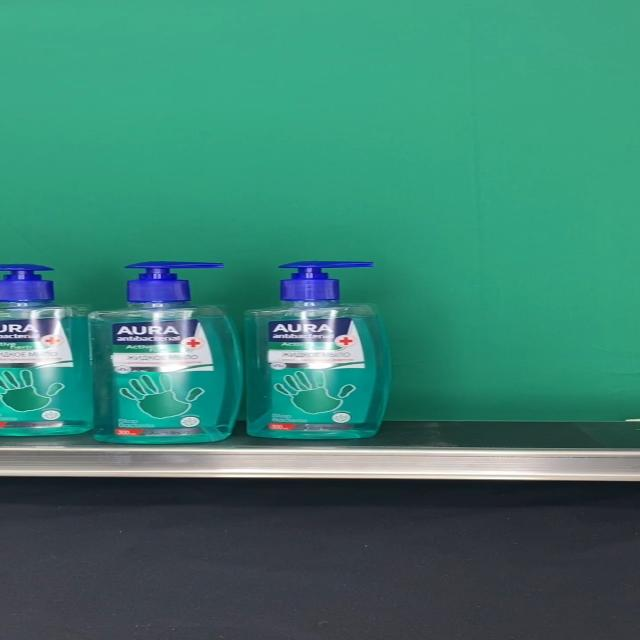Bottle: (88, 261, 242, 444), (246, 260, 391, 438)
Cap: (124, 261, 222, 303), (277, 261, 377, 302)
